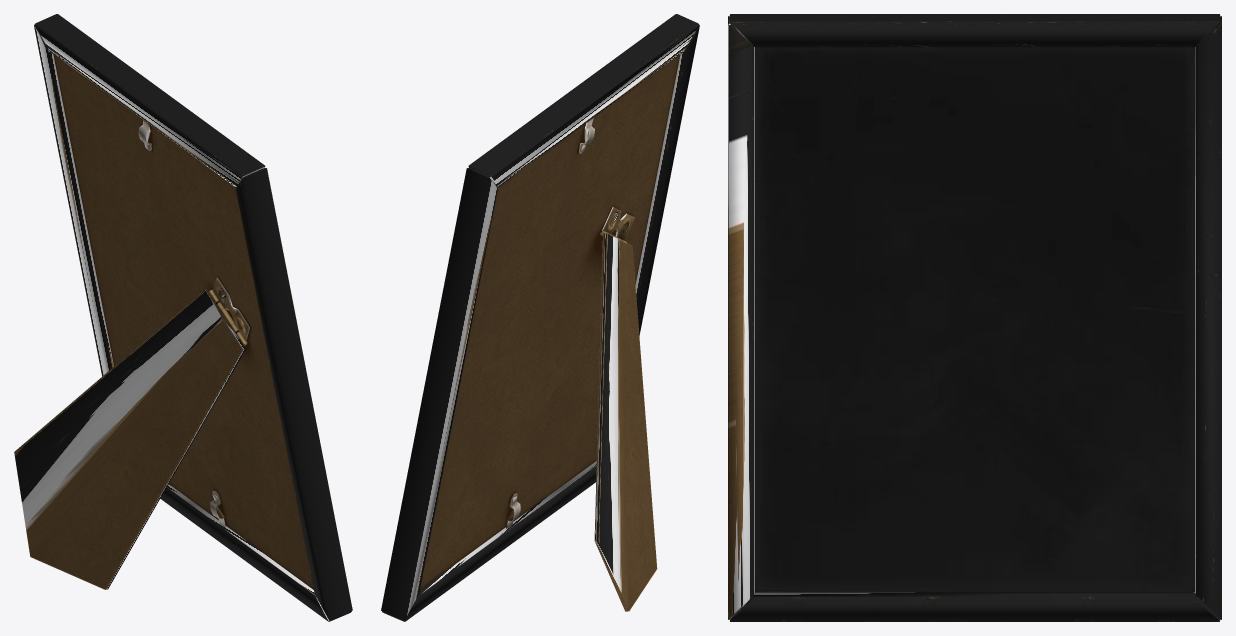
The model's file is standing_picture_frame_01.glb.
The picture shows the model from 3 angles, left to right: view 1: azimuth 30°, elevation 25°; view 2: azimuth 150°, elevation 25°; view 3: azimuth 270°, elevation 25°; orthographic projection. The views are drawn at different scales.
Parts seen in each view (by area): view 1: standing_picture_frame_01; view 2: standing_picture_frame_01; view 3: standing_picture_frame_01.
Boxes of the visible parts, box(x1,y1,x2,y2) form: standing_picture_frame_01: box(14, 14, 352, 621); standing_picture_frame_01: box(381, 14, 699, 621); standing_picture_frame_01: box(728, 14, 1221, 621).
Bounding box in the file's own units: 0.1 × 0.2497 × 0.2004.
Materials: 3 (3 with a texture image).
